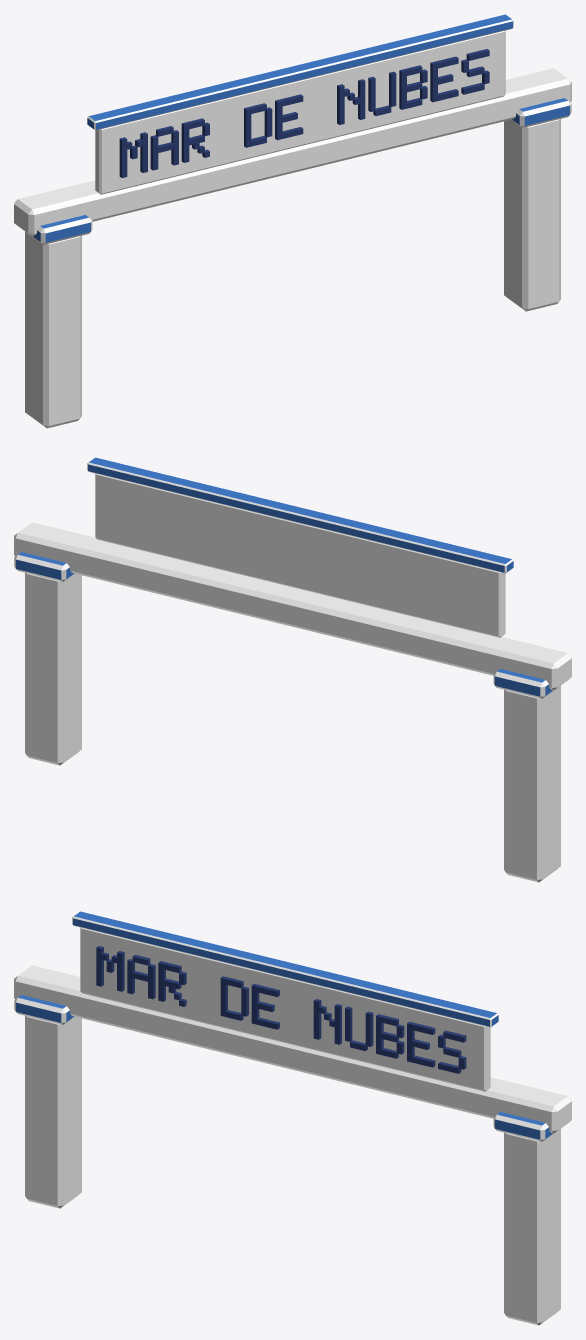
The model's file is mar-de-nubes_Arco.glb.
3 renders of one model, top to bottom at view 1: azimuth 30°, elevation 25°; view 2: azimuth 150°, elevation 25°; view 3: azimuth 330°, elevation 25°, orthographic.
Parts seen in each view (by area): view 1: Mapa_mar_de_nubes_Arco; view 2: Mapa_mar_de_nubes_Arco; view 3: Mapa_mar_de_nubes_Arco.
Part boxes in pixels (x1,y1,x2,y2): Mapa_mar_de_nubes_Arco: (14, 14, 571, 428); Mapa_mar_de_nubes_Arco: (14, 457, 571, 882); Mapa_mar_de_nubes_Arco: (14, 911, 571, 1325).
Size of the model in its own units: 84 by 43.9 by 8.
Materials: 1 (1 with a texture image).
